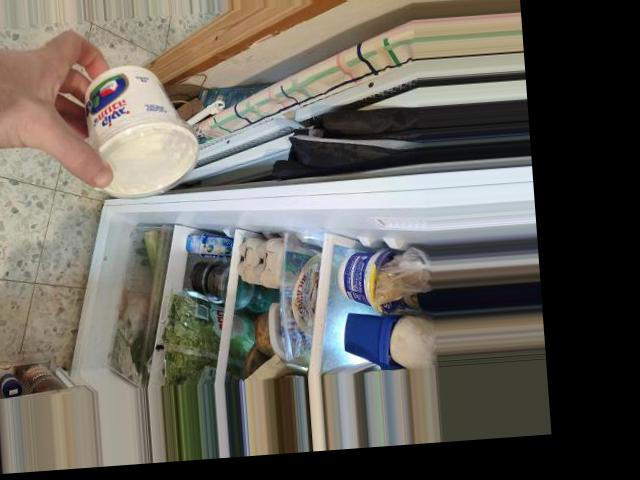cotage: (65, 64, 191, 174)
